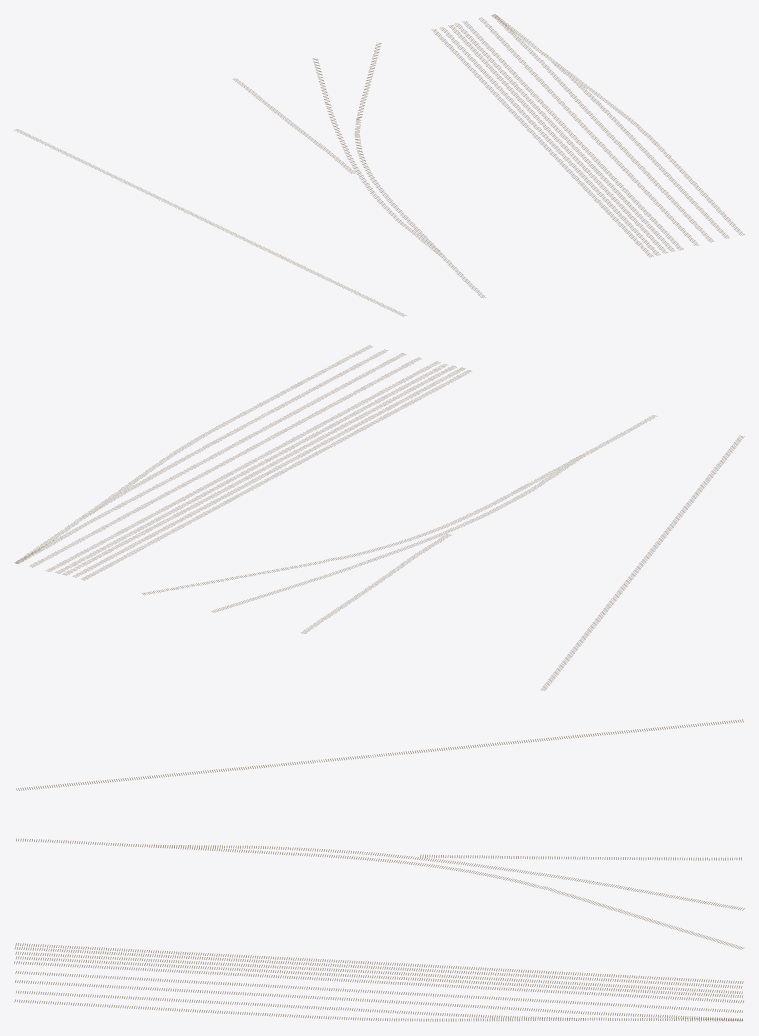
File: c_1630_17825_rail_sleeper.glb
3 renders of one model, top to bottom at view 1: azimuth 30°, elevation 25°; view 2: azimuth 150°, elevation 25°; view 3: azimuth 270°, elevation 25°, orthographic. The views are drawn at different scales.
Visible parts, largest first — view 1: geometry_0; view 2: geometry_0; view 3: geometry_0.
Part boxes in pixels (left/top/right/bottom): geometry_0: left=14, top=14, right=744, bottom=316; geometry_0: left=14, top=345, right=744, bottom=690; geometry_0: left=14, top=719, right=744, bottom=1021.
Size of the model in its own units: 249 by 2.13 by 257.
